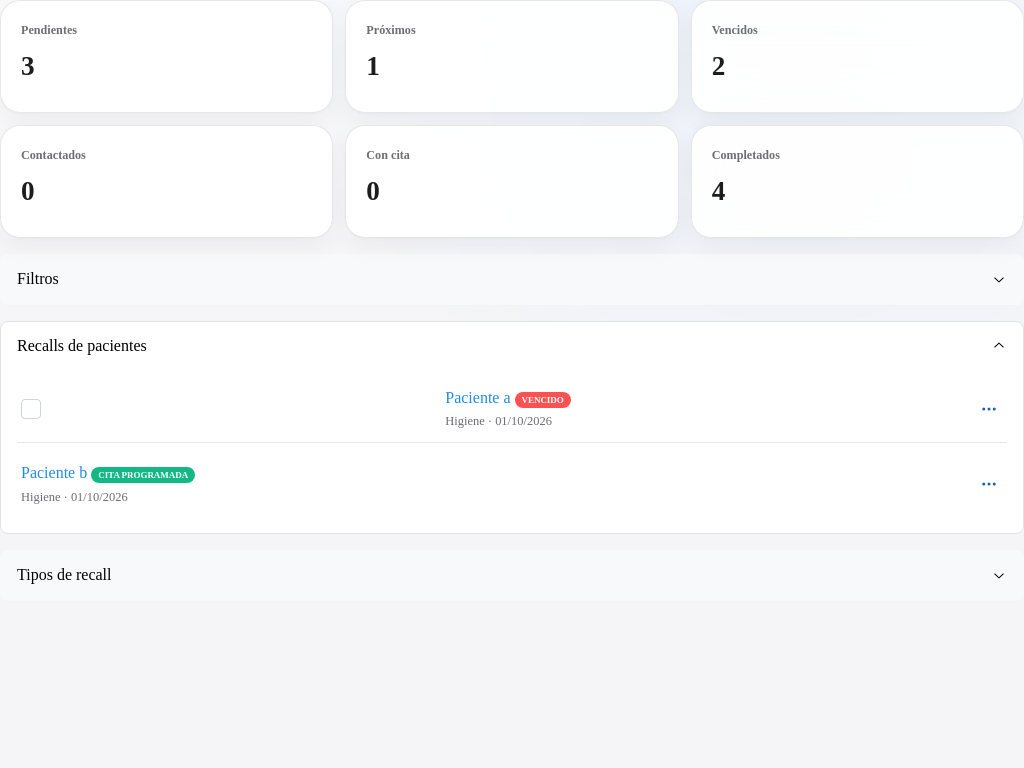
Test case: RecallsModule › abre el historial del recall
Click the button named "Acciones para Paciente a". click: (989, 409)
box: [975,395,1003,423]
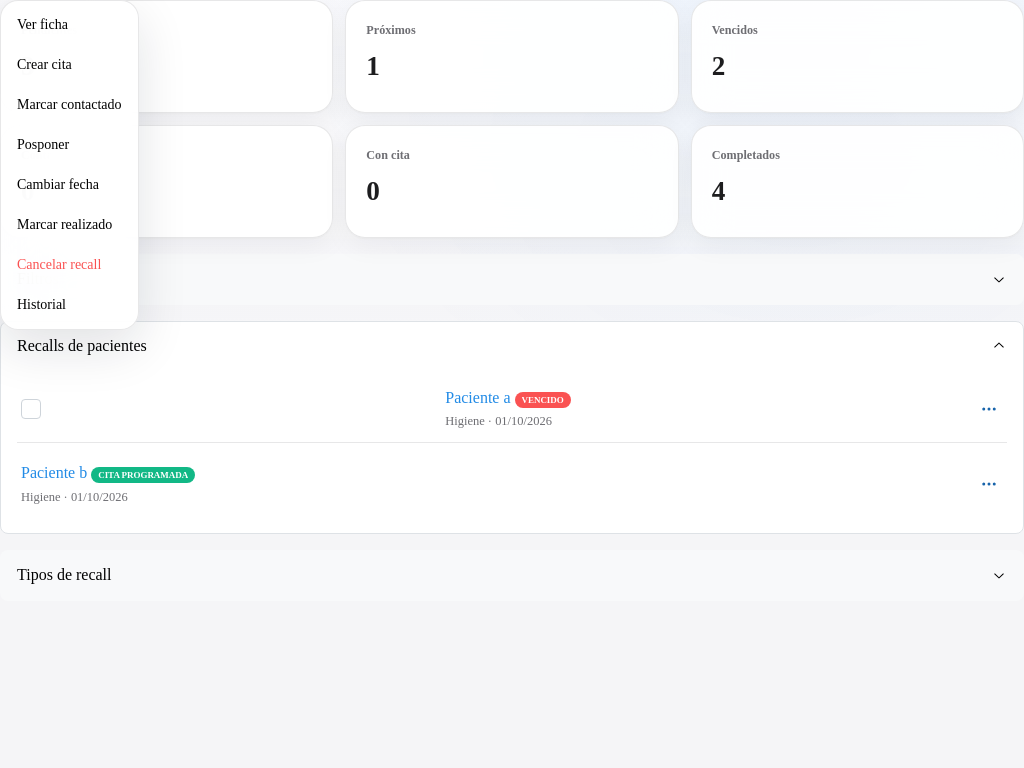
Click the menu item "Historial". click: (69, 305)
box: [5,285,134,325]
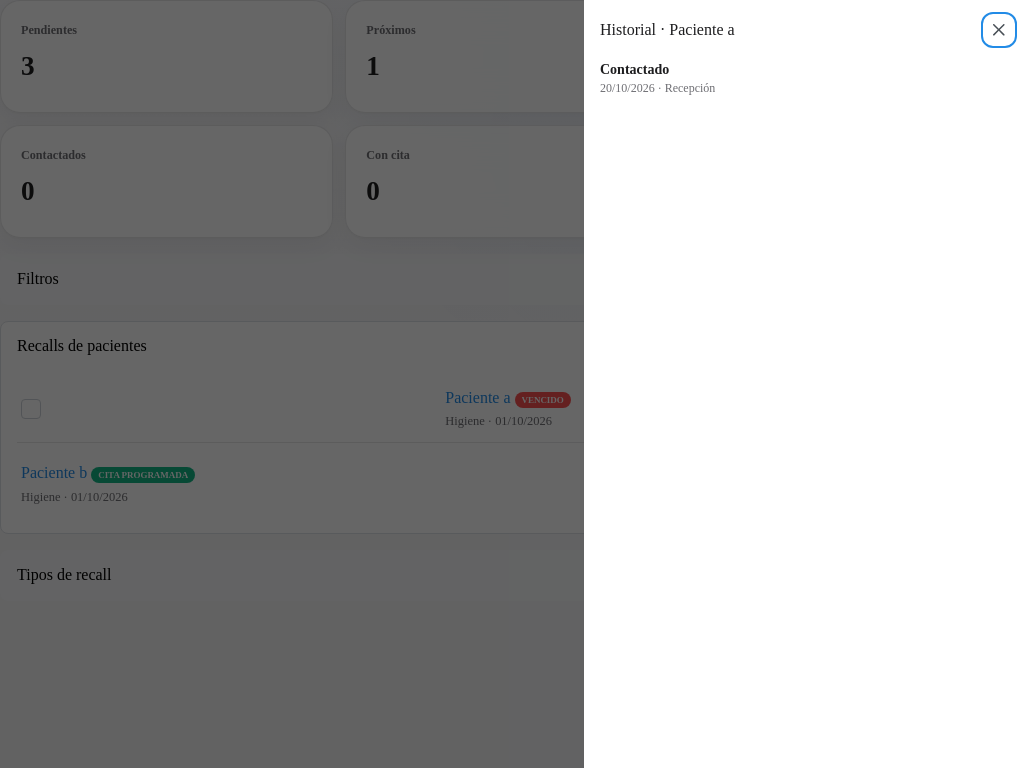
Result: the text "Contactado" is shown at [600,62,669,77]
Result: the dialog "Historial · Paciente a" shows "Recepción" at [655,81,715,95]
